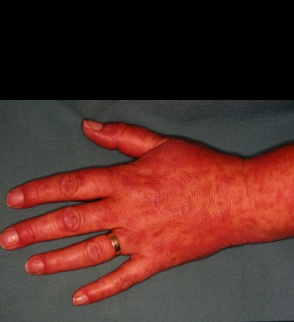SJS-TEN: (82, 108, 289, 293)
